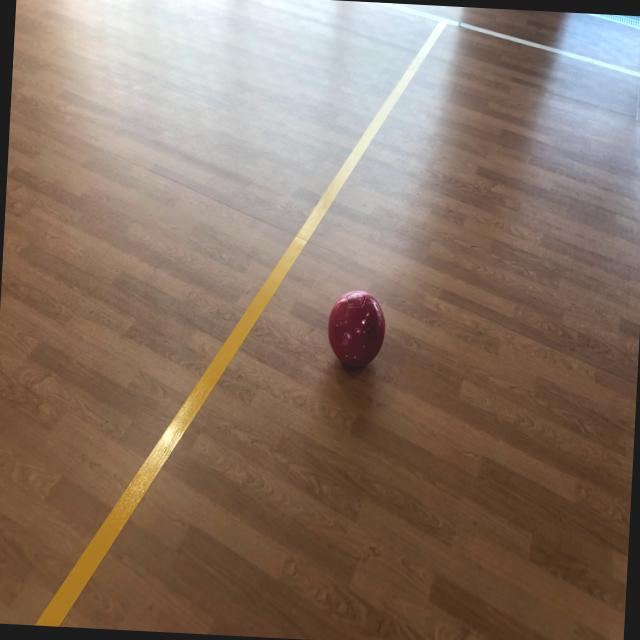red_ball: (326, 287, 387, 373)
